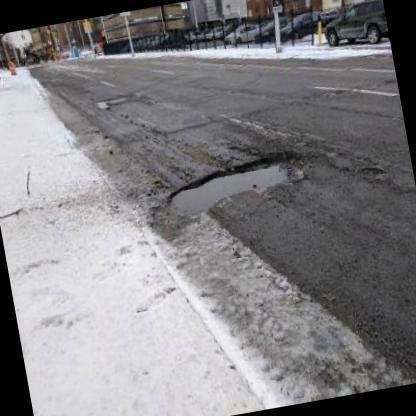pothole: (167, 144, 320, 220)
